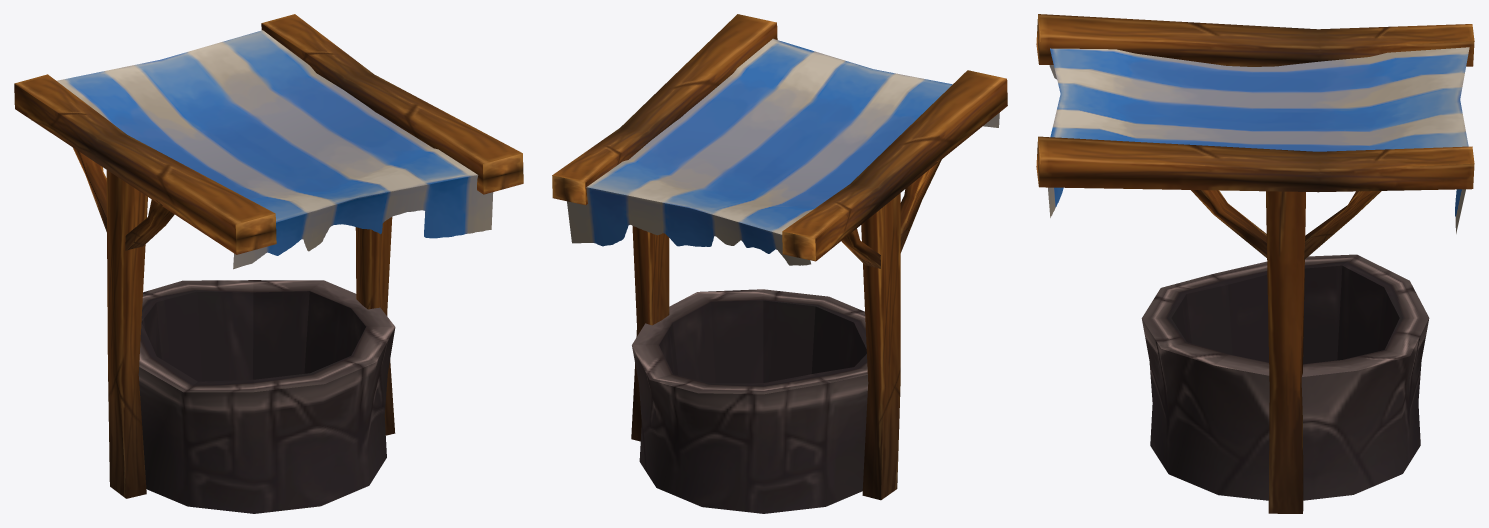
File: well_1.fbx
3 renders of one model, left to right at view 1: azimuth 30°, elevation 25°; view 2: azimuth 150°, elevation 25°; view 3: azimuth 270°, elevation 25°, orthographic. The views are drawn at different scales.
Parts seen in each view (by area): view 1: well_1; view 2: well_1; view 3: well_1.
Boxes of the visible parts, bbox=[...] form: well_1: bbox=[14, 14, 523, 513]; well_1: bbox=[552, 14, 1007, 513]; well_1: bbox=[1036, 14, 1474, 513].
Bounding box in the file's own units: 2.71 × 3.14 × 3.42.
